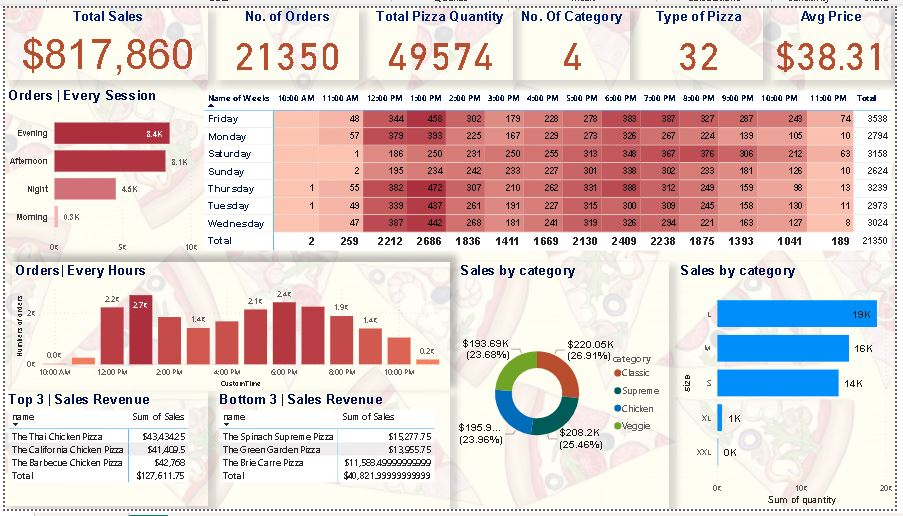

What the dashboard file says about the page in this screenshot:
{"tool":"powerbi","page":{"name":"New Sales","canvas":[1280,720],"ordinal":1},"visuals":[{"type":"card","title":"Total Sales","fields":{"Values":["Sum(order_details.Sales)"]},"box":[0,0,291.7,103.5],"z":0},{"type":"card","title":"No. of Orders","fields":{"Values":["orders.Numbers of orders"]},"box":[302.9,0,205.7,102.9],"z":1000},{"type":"card","title":"Total Pizza Quantity","fields":{"Values":["Sum(order_details.quantity)"]},"box":[520,0,210,102.9],"z":2000},{"type":"donutChart","title":" Sales by Category","fields":{"Category":["pizza_types.category"],"Y":["Sum(order_details.Sales)"]},"box":[638.1,523.1,314.7,192.6],"z":3000},{"type":"columnChart","title":"Orders| Every Hours","fields":{"Y":["orders.Numbers of orders"],"Category":["orders.CustomTime"]},"box":[1.4,360.7,626.6,355],"z":4000},{"type":"pivotTable","fields":{"Rows":["orders.Name of days"],"Columns":["orders.CustomTime"],"Values":["orders.Numbers of orders"]},"box":[291.2,113.5,988.7,247.2],"z":5000},{"type":"pivotTable","title":"Top 3 | Sales Revenue","fields":{"Rows":["pizza_types.name"],"Values":["Sum(order_details.Sales)"]},"box":[639.5,375.1,291.7,146.6],"z":6000},{"type":"pivotTable","title":"Bottom 3 | Sales Revenue","fields":{"Rows":["pizza_types.name"],"Values":["Sum(order_details.Sales)"]},"box":[947.1,372.2,333.4,150.9],"z":7000},{"type":"card","title":"No. Of Category ","fields":{"Values":["Count(pizza_types.category)"]},"box":[731.4,0,167.1,102.9],"z":8000},{"type":"card","title":"Type of Pizza","fields":{"Values":["Count(pizza_types.name)"]},"box":[904.3,0,185.7,102.9],"z":9000},{"type":"card","title":"Avg Price","fields":{"Values":["order_details.Avg Order value"]},"box":[1101.4,0,172.9,102.9],"z":10000},{"type":"barChart","title":"Orders | Every Session","fields":{"Category":["orders.Time of day"],"Y":["orders.Numbers of orders"]},"box":[0,113.5,270.2,247.2],"z":11000},{"type":"columnChart","title":"Quantity by Size","fields":{"Category":["pizzas.size"],"Y":["Sum(order_details.quantity)"]},"box":[960,538.9,314.7,176.8],"z":12000}]}

Visuals, with their boxes in screenshot pixels (x1, y1, x2, y2), scaled from the page's 1280x720 canvas onto the 903x516 screenshot:
"Total Sales" card: (x1=0, y1=0, x2=206, y2=74)
"No. of Orders" card: (x1=214, y1=0, x2=359, y2=74)
"Total Pizza Quantity" card: (x1=367, y1=0, x2=515, y2=74)
" Sales by Category" donutChart: (x1=450, y1=375, x2=672, y2=513)
"Orders| Every Hours" columnChart: (x1=1, y1=259, x2=443, y2=513)
pivotTable - orders.Name of days x orders.CustomTime: (x1=205, y1=81, x2=902, y2=259)
"Top 3 | Sales Revenue" pivotTable: (x1=451, y1=269, x2=657, y2=374)
"Bottom 3 | Sales Revenue" pivotTable: (x1=668, y1=267, x2=902, y2=375)
"No. Of Category " card: (x1=516, y1=0, x2=634, y2=74)
"Type of Pizza" card: (x1=638, y1=0, x2=769, y2=74)
"Avg Price" card: (x1=777, y1=0, x2=899, y2=74)
"Orders | Every Session" barChart: (x1=0, y1=81, x2=191, y2=259)
"Quantity by Size" columnChart: (x1=677, y1=386, x2=899, y2=513)
